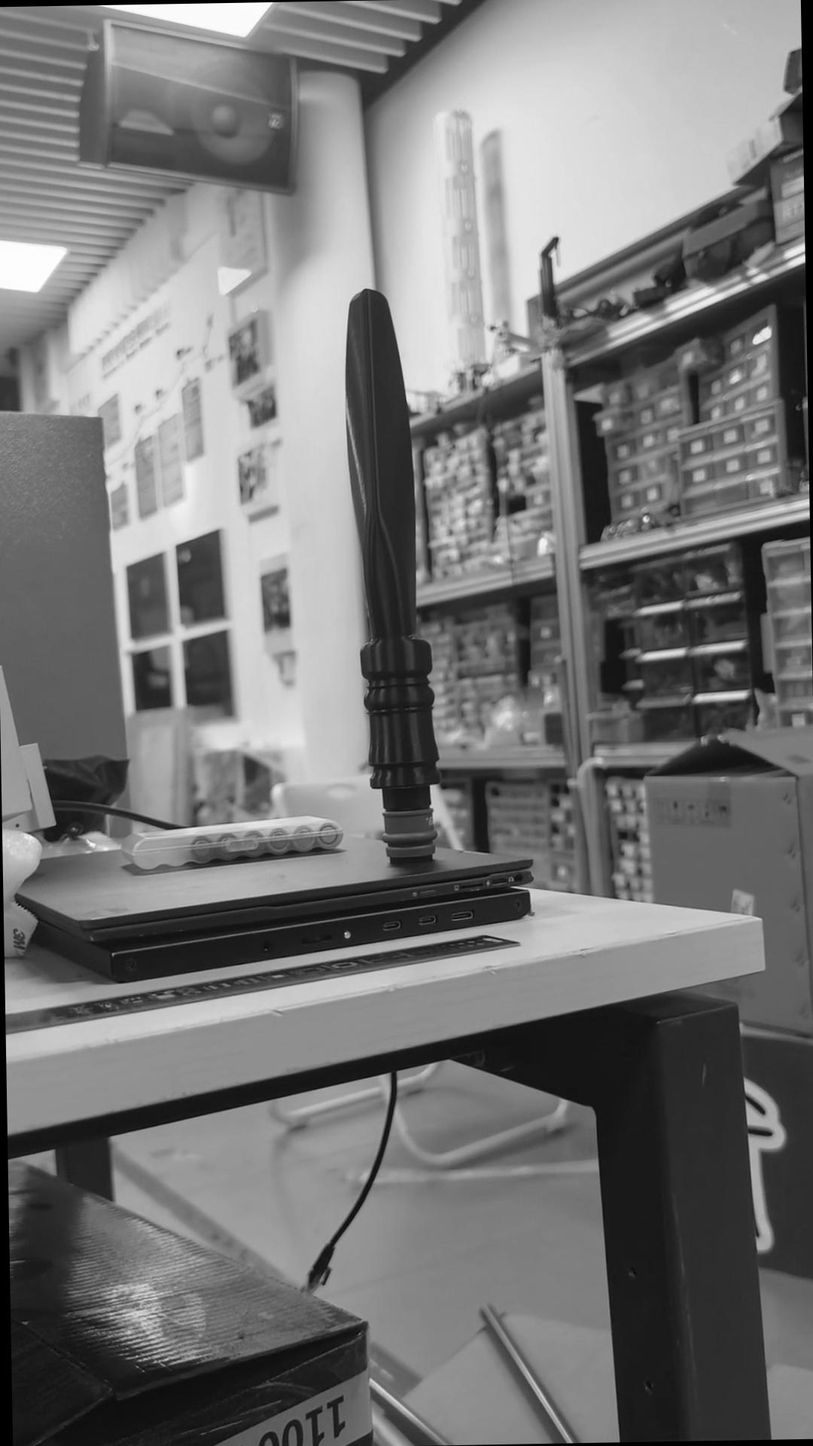base: (368, 801, 443, 877)
